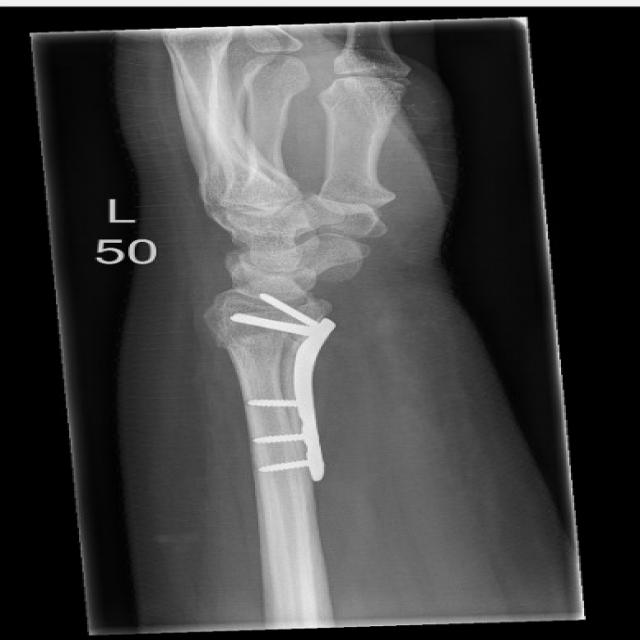x-ray: (219, 286, 378, 488)
